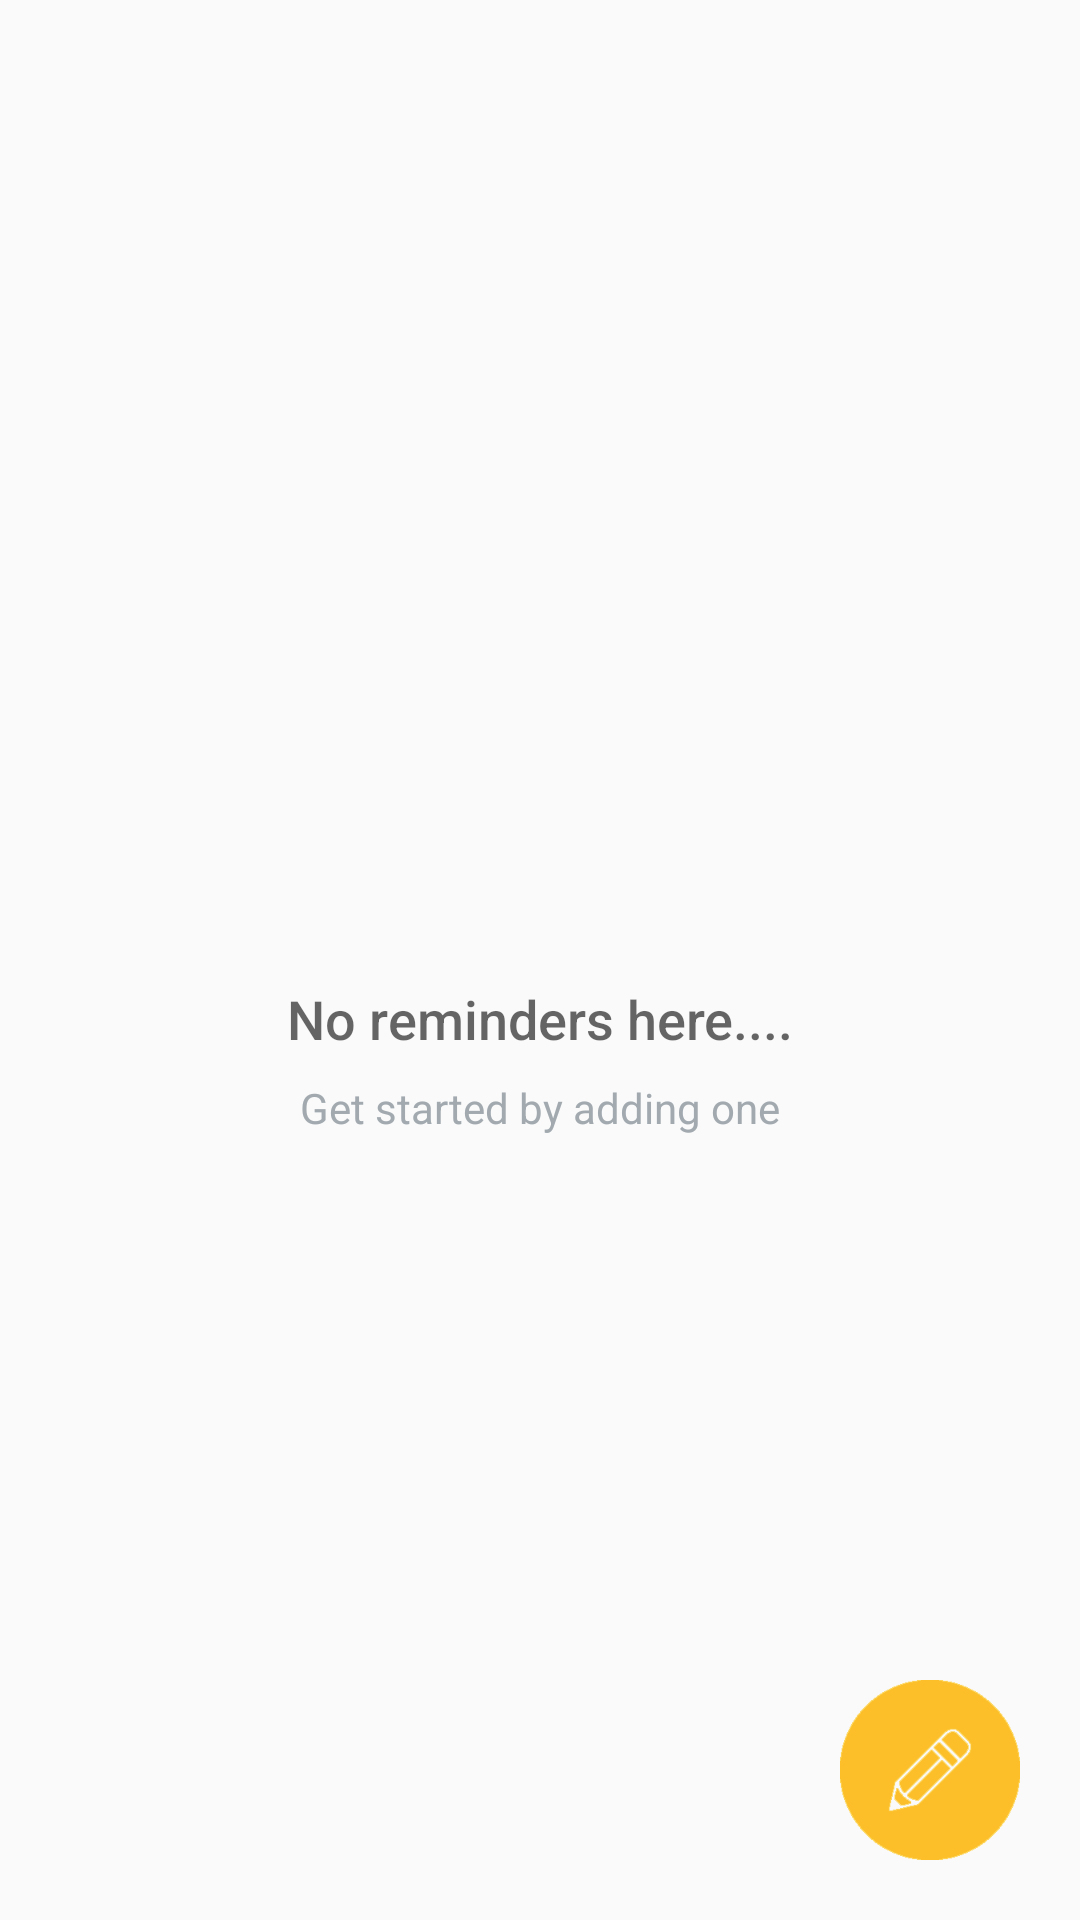

Locate icon controls on the screen. Image size 1080 x 1920, boxes as (x1, y1, x2, y2).
pencil: (840, 1680, 1020, 1860)
